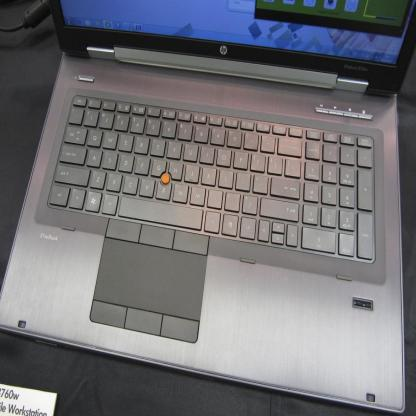board: (0, 3, 416, 414)
